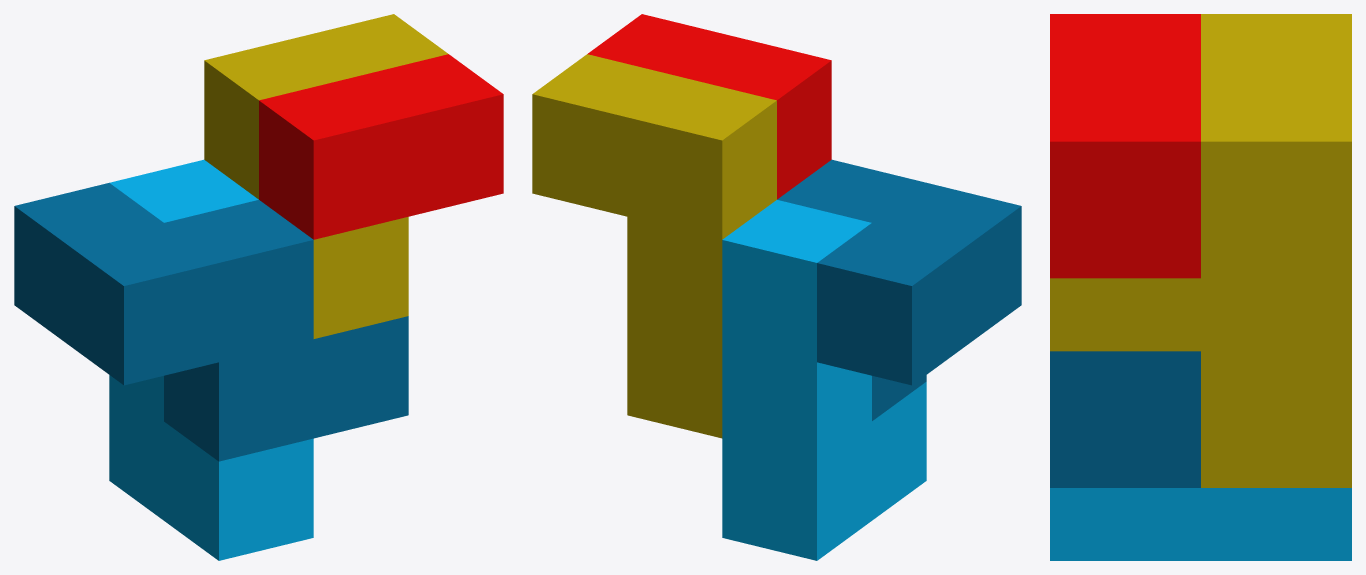
3 renders of one model, left to right at view 1: azimuth 30°, elevation 25°; view 2: azimuth 150°, elevation 25°; view 3: azimuth 270°, elevation 25°, orthographic. The views are drawn at different scales.
Parts seen in each view (by area): view 1: mergedBlocks(Clone); view 2: mergedBlocks(Clone); view 3: mergedBlocks(Clone).
Part boxes in pixels (box(x1,y1,x2,y2)): mergedBlocks(Clone): box(14, 14, 503, 560); mergedBlocks(Clone): box(532, 14, 1021, 560); mergedBlocks(Clone): box(1050, 14, 1351, 560).
Size of the model in its own units: 4 by 4 by 2.
Materials: 4 (4 with a texture image).
